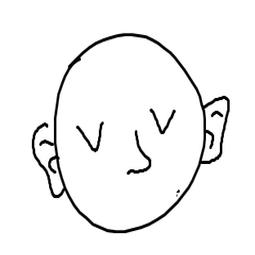closed_eye: (76, 109, 113, 155), (142, 103, 180, 136)
large_ear: (25, 110, 66, 200), (196, 91, 233, 165)
nose: (125, 126, 154, 178)
